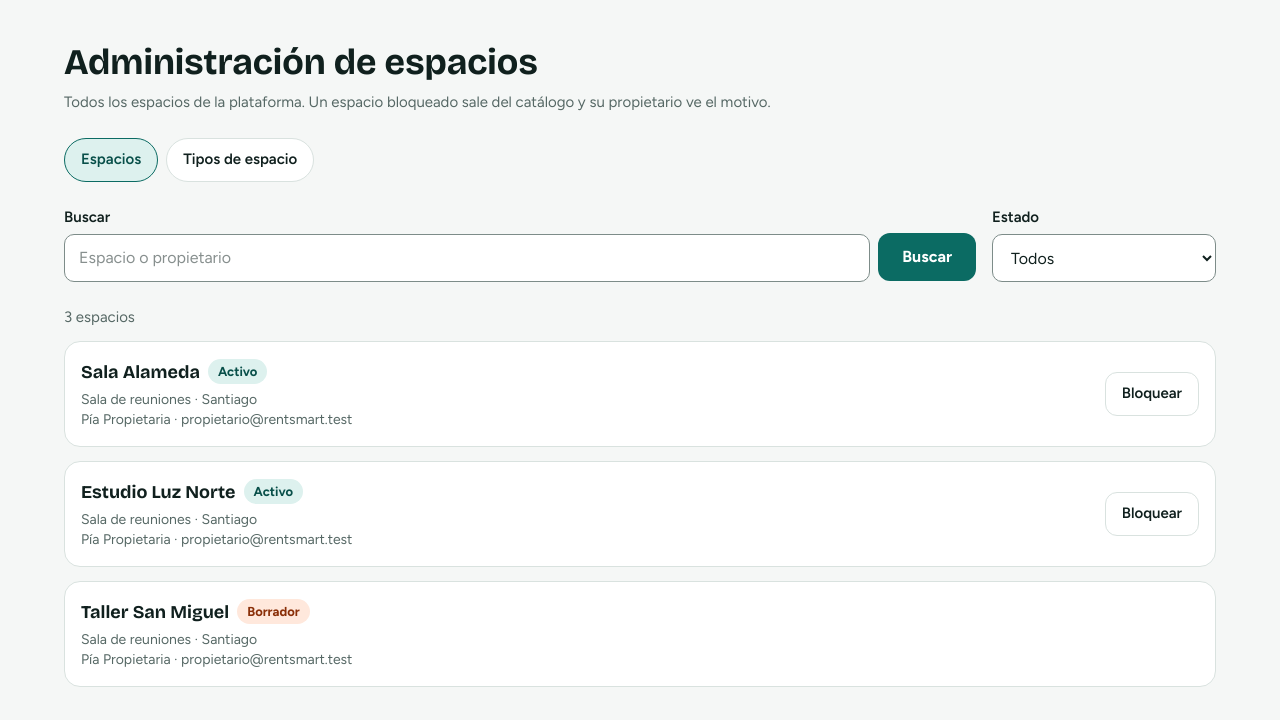
it: AdminSpacesPage (AD-02) › bloquear › con un motivo muy corto no bloquea y lo pide
Click the button with aria-label "Bloquear Sala Alameda".
click(1152, 394)  # box [1105,372,1199,416]
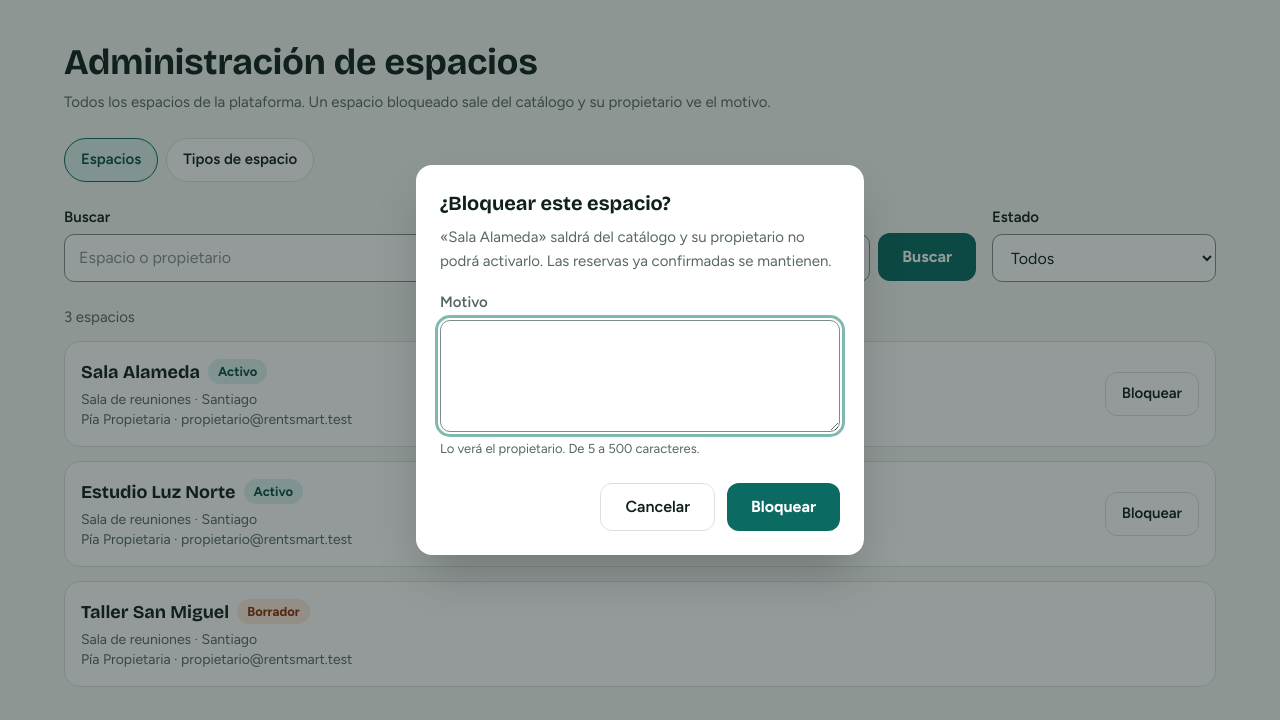
Type "no" into the text box labelled "Motivo".
click(640, 376); type("no")  # box [440,320,840,432]
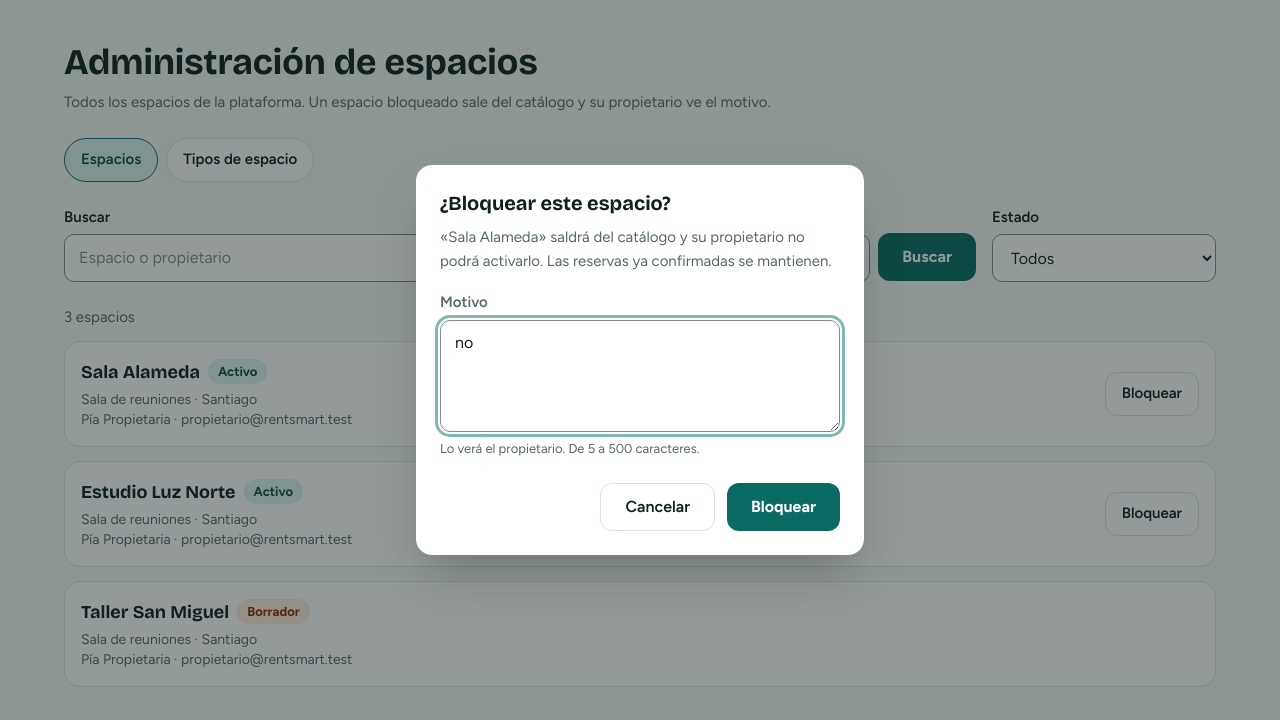
Click the button "Bloquear".
click(784, 507)  # box [727,483,840,531]
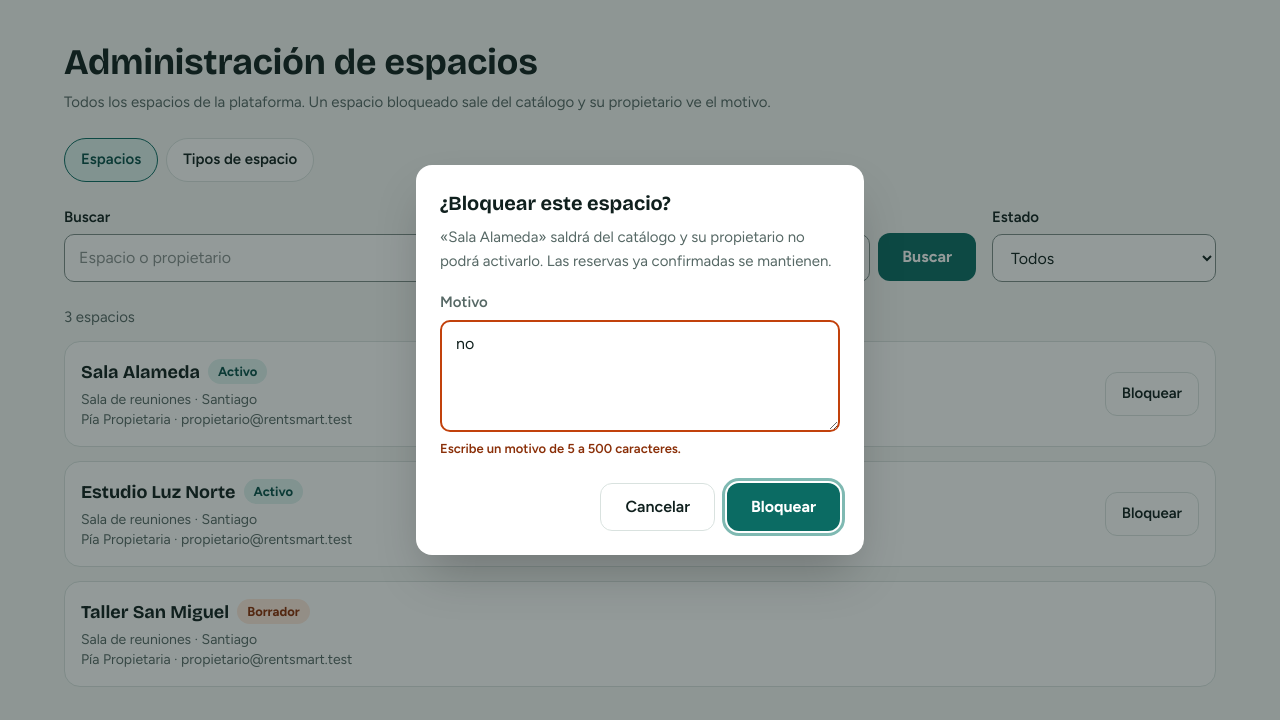
Result: the text "Escribe un motivo de 5 a 500 caracteres." is shown at [440,441,681,456]
